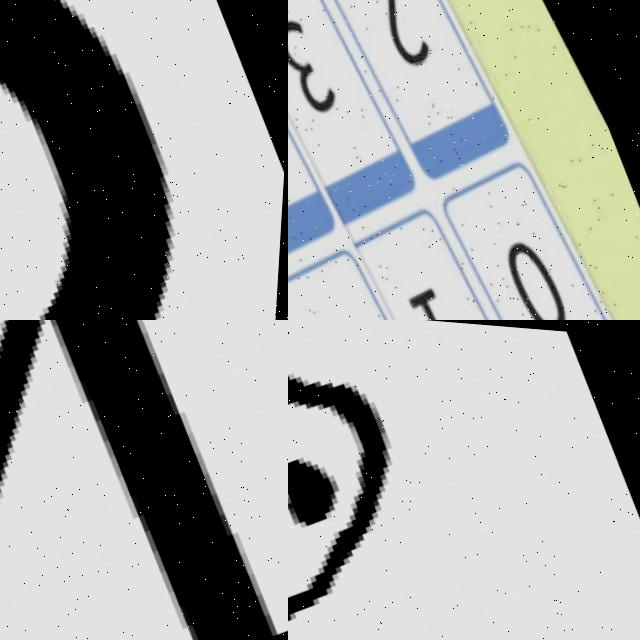0: (0, 0, 288, 320), (494, 218, 591, 320)
1: (404, 269, 488, 320)
2: (353, 0, 448, 76)
3: (288, 2, 353, 121)
V: (0, 320, 288, 640)
